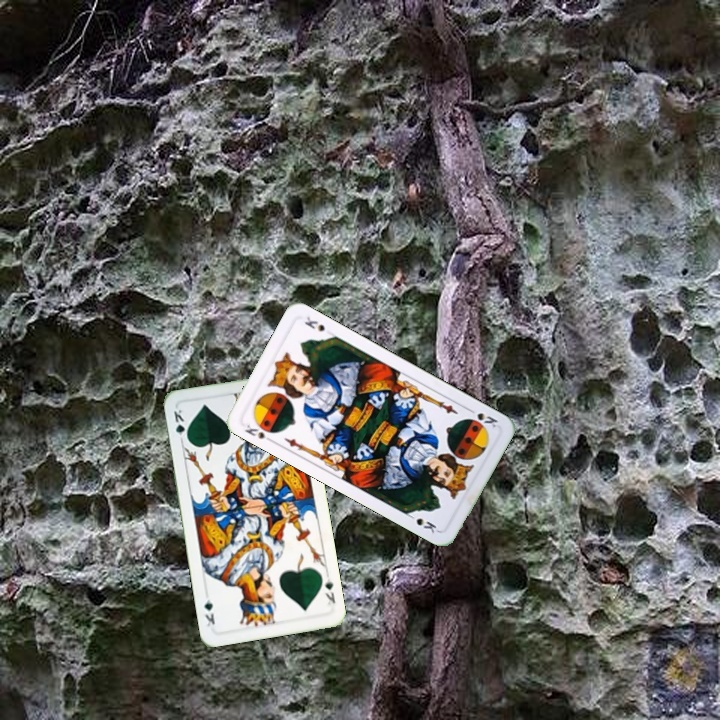GK: (170, 405, 191, 445), (321, 571, 338, 608)
SK: (463, 404, 501, 430), (241, 420, 276, 445)
